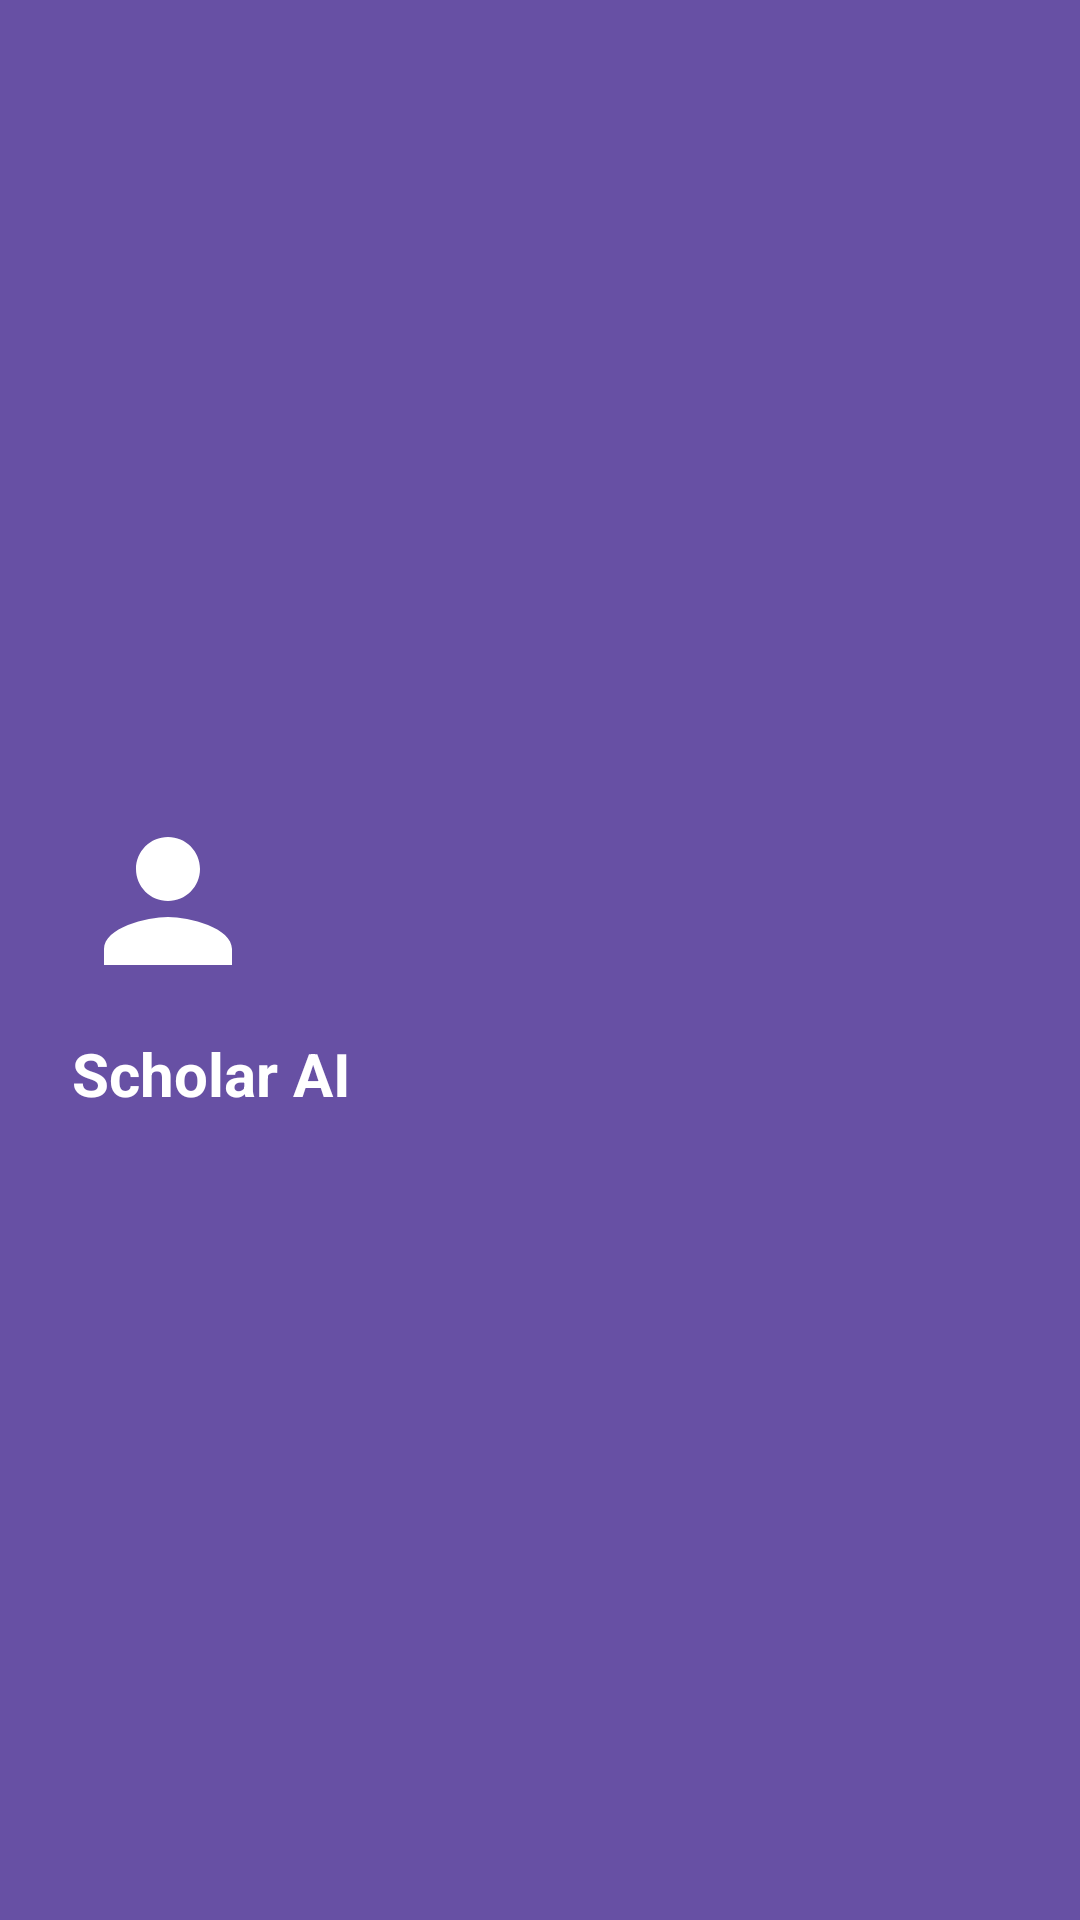

Icons on this 1080w x 1920h Android screen, each with its box as [left=x1, top=y1, right=x2, bottom=y2]:
person: [left=104, top=837, right=232, bottom=965]
